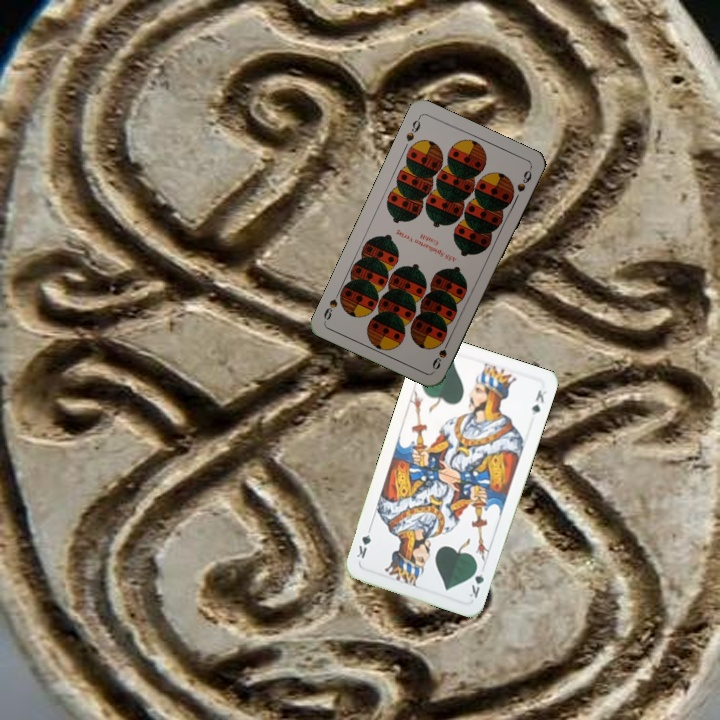GK: (464, 561, 487, 600)
S9: (428, 334, 453, 372), (402, 113, 423, 144)
